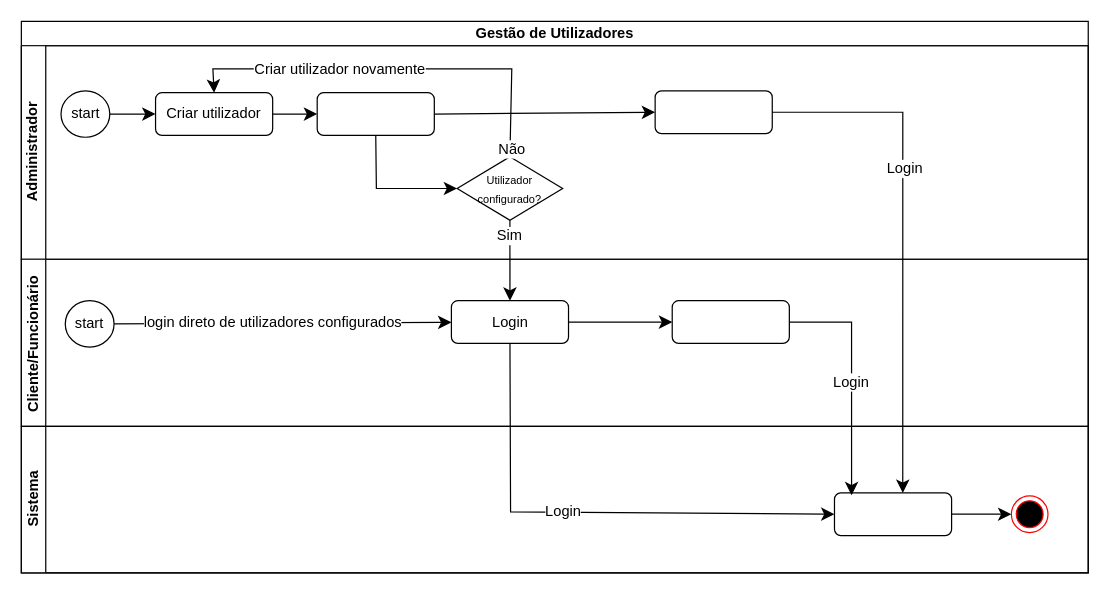
Image size: 1110x594. Some labels were removed from this diagram. Each missing label, with the centre of its shape:
Atualizar Perfil do Utilizador: [730,321]
Editar Permissões: [375,113]
Listar Utilizadores: [713,112]
Registar Status de Login: [892,514]
